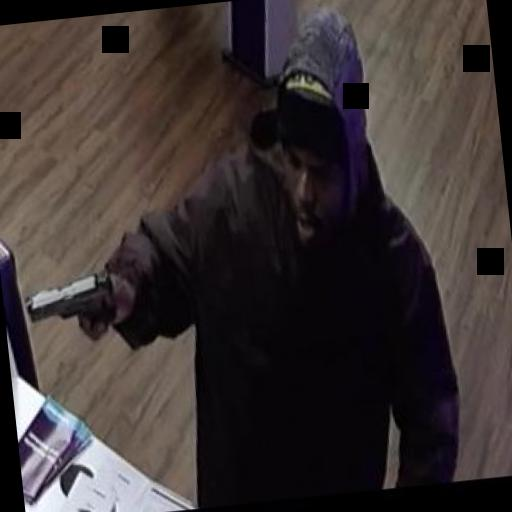Handgun: (19, 270, 120, 346)
